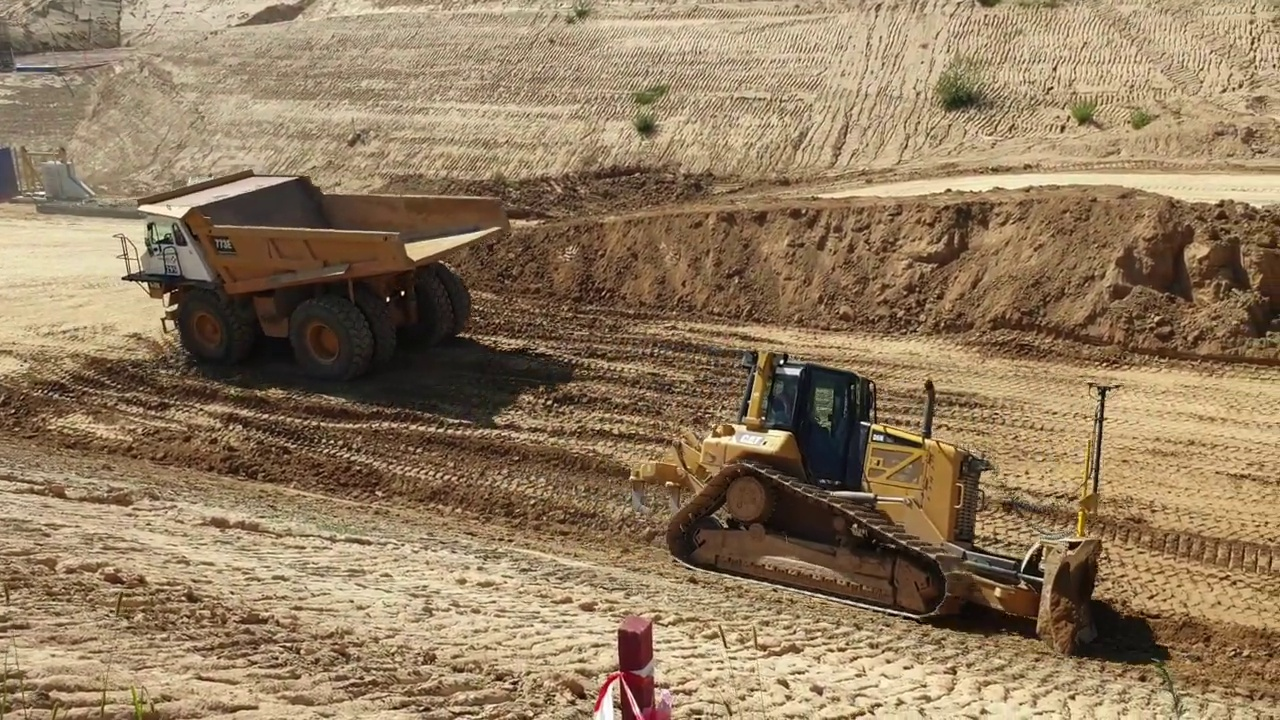bulldozer: (626, 344, 1123, 658)
truck: (115, 164, 519, 386)
